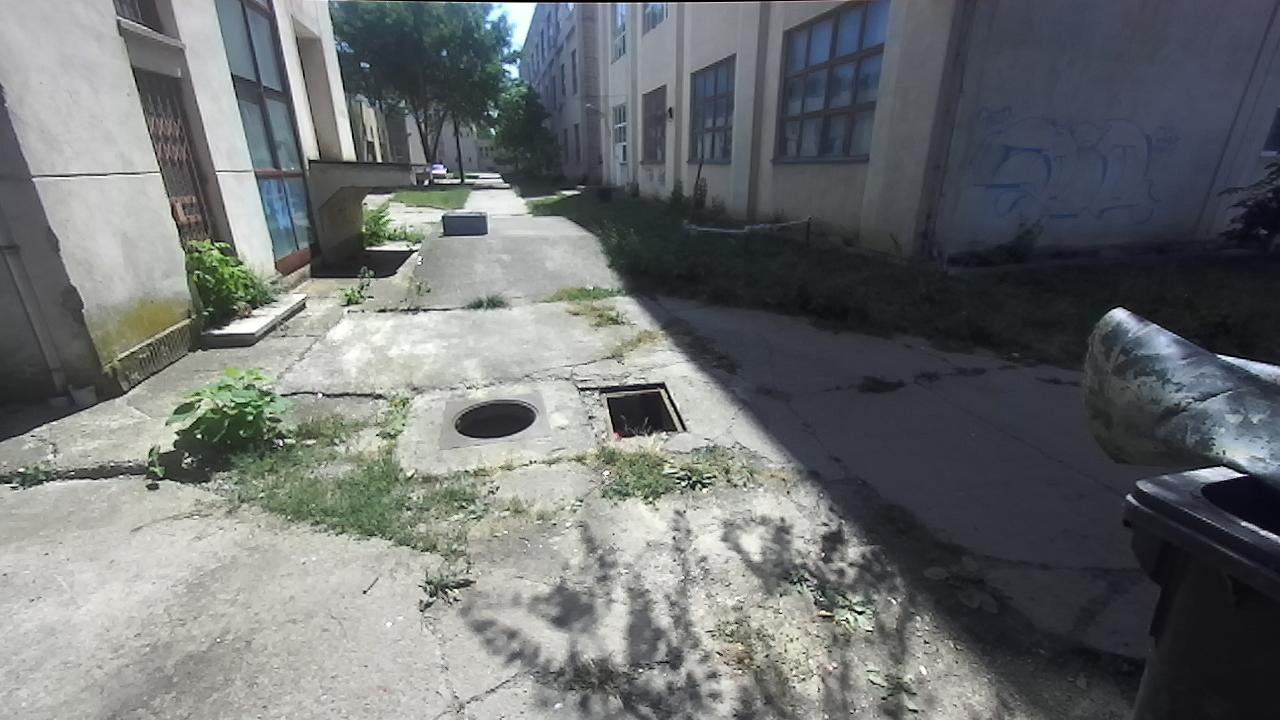drain: (593, 379, 692, 439), (449, 393, 544, 443)
